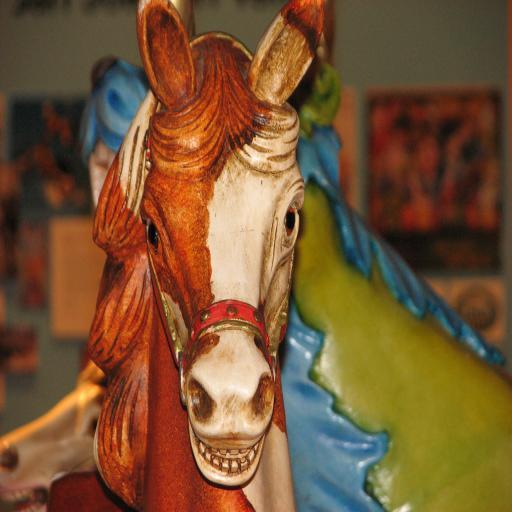horse: (78, 58, 512, 512), (10, 1, 326, 512), (0, 358, 108, 512)
